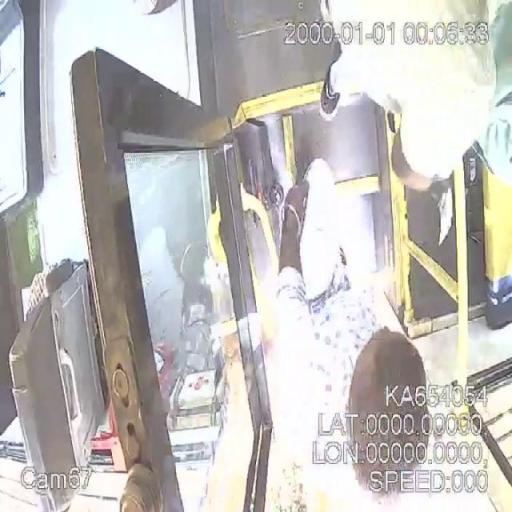persona: (236, 156, 433, 509), (302, 0, 497, 195)
